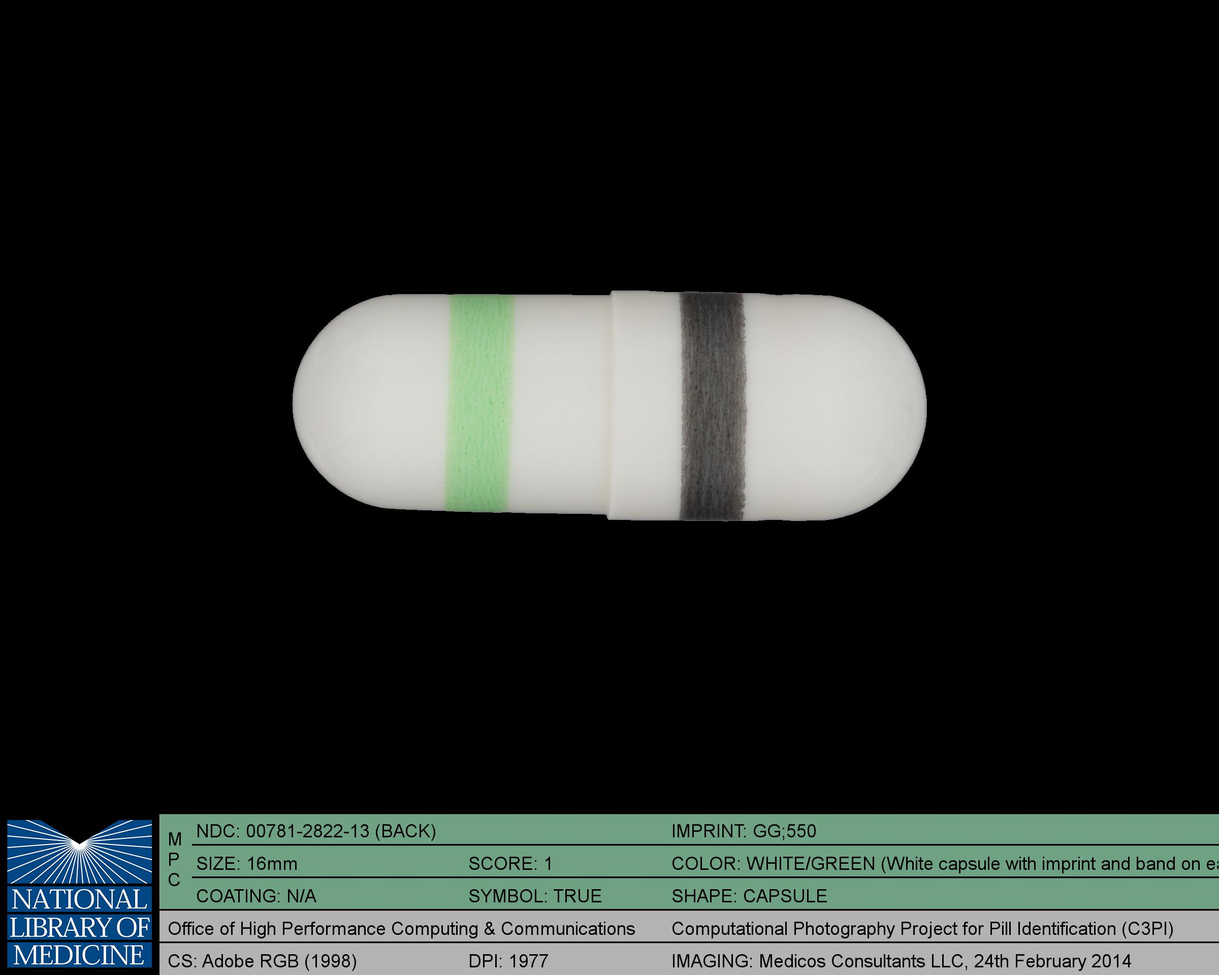Pill: (279, 274, 936, 533)
